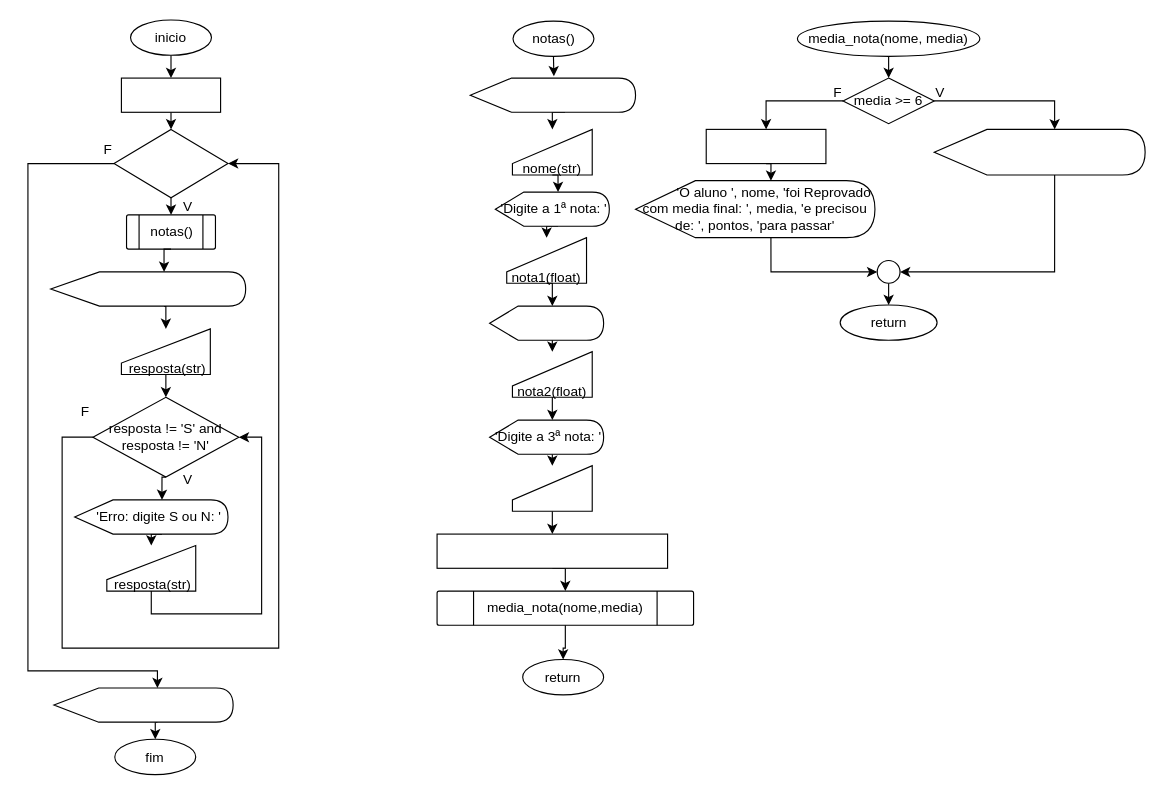
The diagram is 1165 pixels wide and 795 high, and some of its shapes have lost their labels. Each missing label, with the box of its shape:
'Deseja continuar? (S/N) ': (50, 271, 246, 306)
'Digite a 2ª nota: ': (488, 305, 604, 340)
'Digite o nome do aluno: ': (469, 77, 636, 112)
'O aluno ', nome, 'foi Aprovado com media final: ', media: (933, 128, 1145, 175)
'Obrigado e volte sempre!: (53, 687, 233, 722)
media = ((nota1 + nota2 + nota3) / 3): (436, 533, 668, 568)
nota3(float): (511, 465, 592, 511)
pontos = 6 - media: (705, 128, 826, 164)
resposta = 'S': (120, 77, 221, 112)
resposta == 'S': (113, 128, 228, 198)
